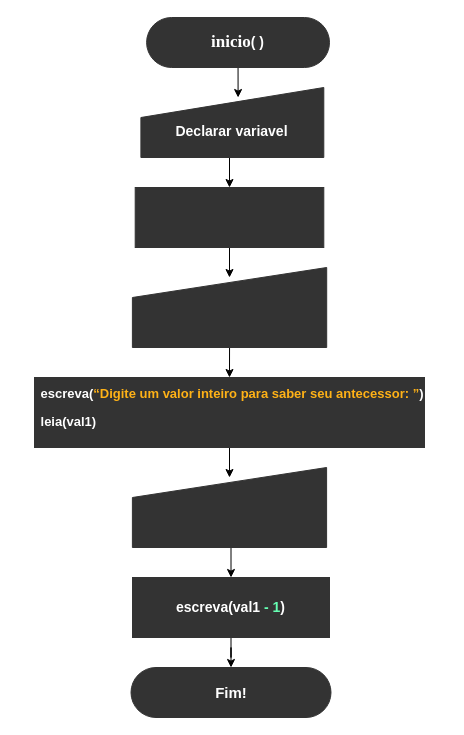
This 464x735 diagram has some shape labels left out. Here are the shapes that lost their labels. From the top down, the centre of each, then its label:
At point (229, 217): "inteiro val1 = 0".
At point (229, 307): "Escreva um algoritimo para ler um valor".
At point (229, 507): "Escreva na tela o seu antecessor.".
